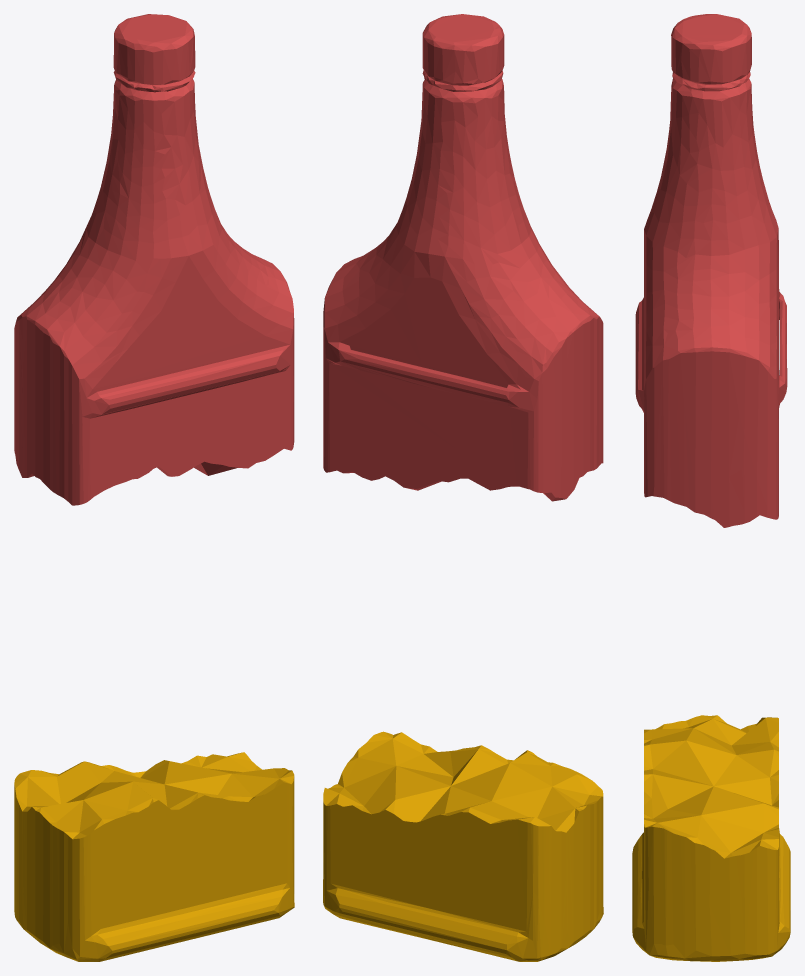
File: fractured_38_2pcs_transformed.glb
3 renders of one model, left to right at view 1: azimuth 30°, elevation 25°; view 2: azimuth 150°, elevation 25°; view 3: azimuth 270°, elevation 25°, orthographic.
Visible parts, largest first — view 1: piece_1.obj, piece_0.obj; view 2: piece_1.obj, piece_0.obj; view 3: piece_1.obj, piece_0.obj.
Boxes of the visible parts, x1=… form: piece_1.obj: x1=14, y1=14, x2=294, y2=505; piece_0.obj: x1=14, y1=752, x2=294, y2=961; piece_1.obj: x1=323, y1=14, x2=603, y2=501; piece_0.obj: x1=323, y1=731, x2=603, y2=961; piece_1.obj: x1=635, y1=14, x2=787, y2=527; piece_0.obj: x1=632, y1=715, x2=790, y2=961.
Bounding box in the file's own units: 0.4503 × 1.6 × 0.2607.
